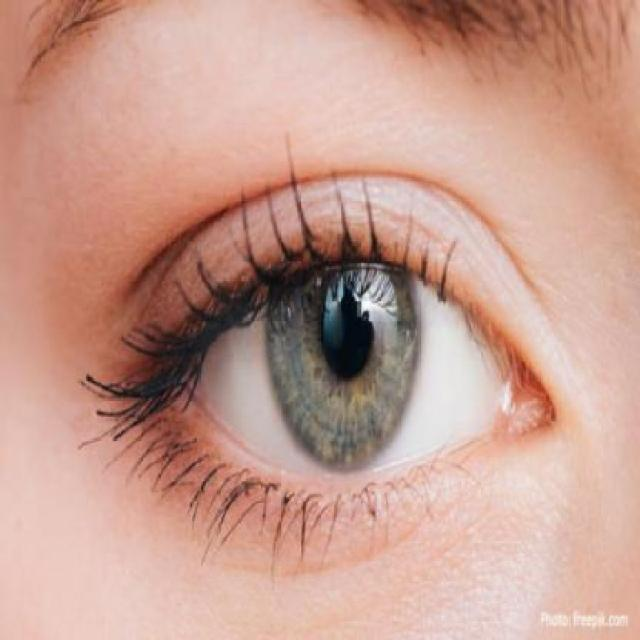awake: (173, 255, 555, 503)
